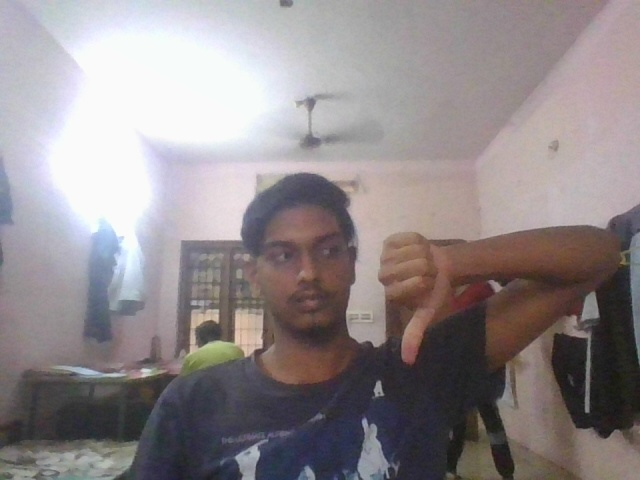thumbsdown: (375, 224, 457, 370)
